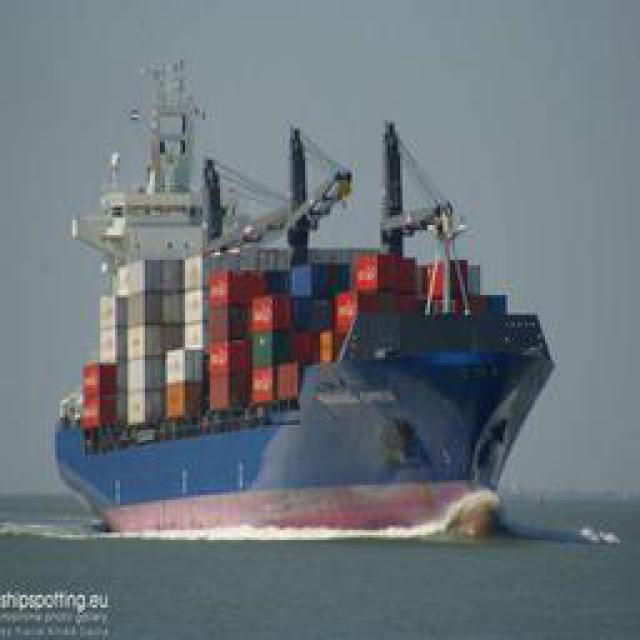Ship: (56, 92, 591, 540)
